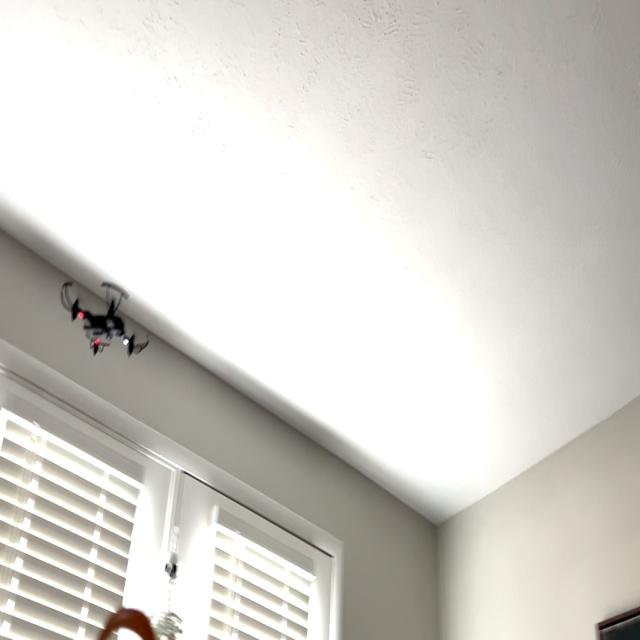drone: (51, 255, 157, 381)
